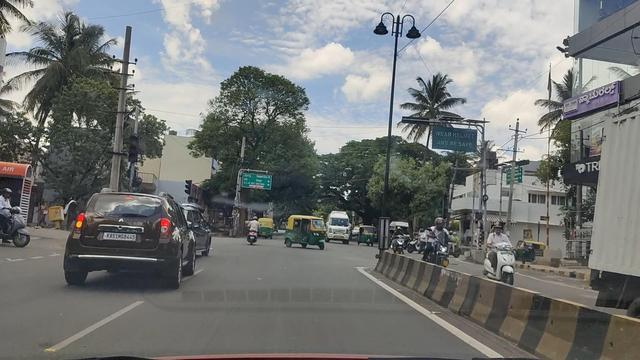LMV: (77, 197, 200, 289)
